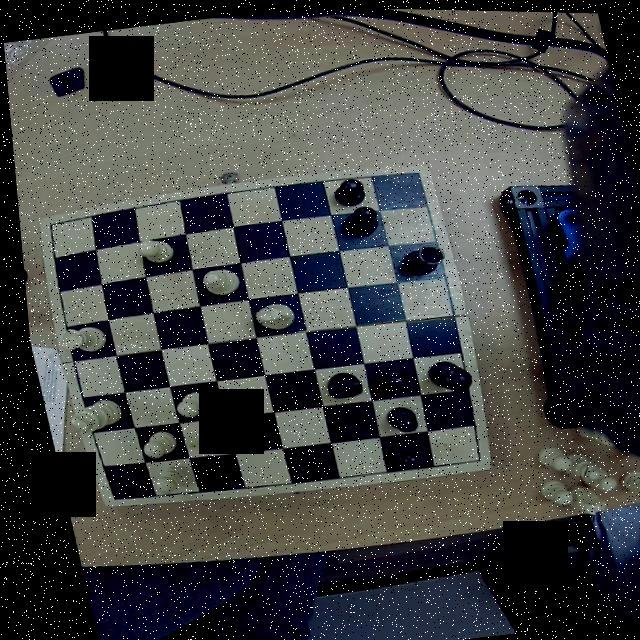chess-table-corners: (398, 162, 428, 186), (458, 442, 485, 467), (92, 487, 123, 507), (35, 218, 60, 239)
